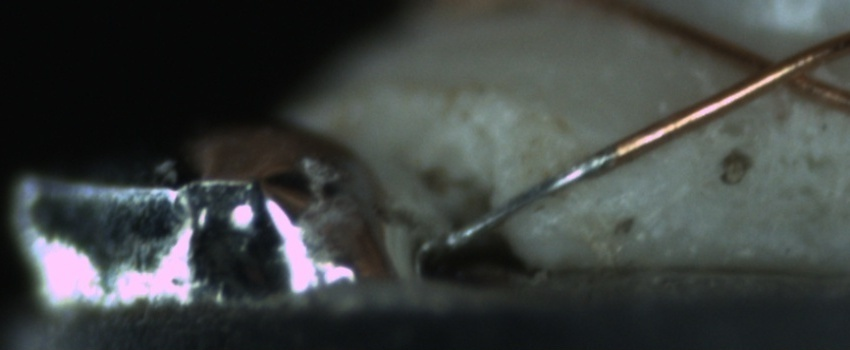CL: (726, 38, 831, 102)
TS: (430, 151, 607, 256)
TTCW: (432, 118, 639, 253)
